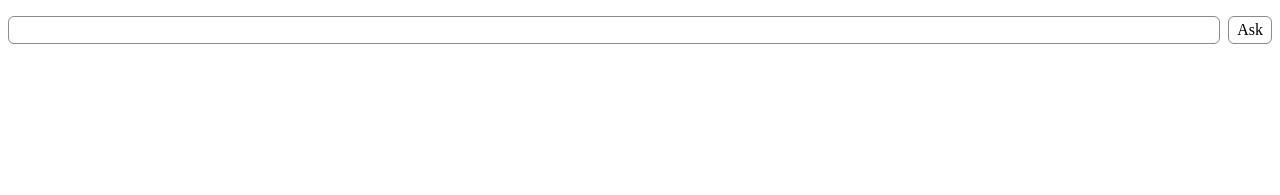
Scenario: AssistantBox asking (spec assistant §4, §5) › filters ids to the spec, drops duplicates, keeps the order; no known id means no highlight
Type "q" into the field at (614, 30), box x1=8 y1=16 x2=1220 y2=44
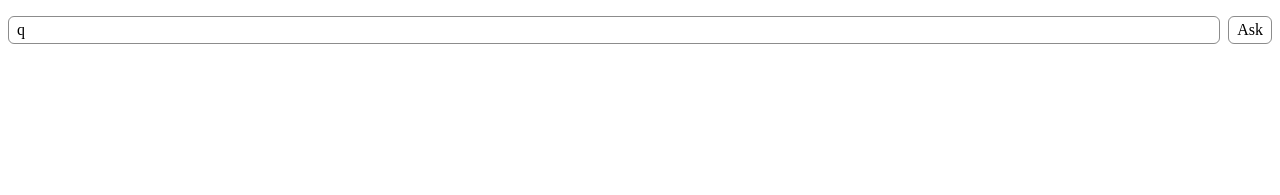
Submit the form, box x1=8 y1=16 x2=1272 y2=44
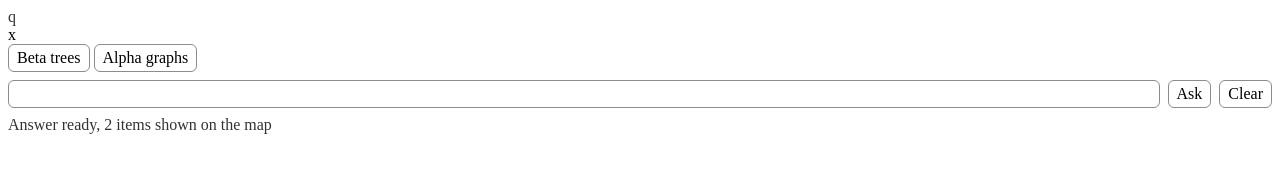
Type "q2" into the field at (584, 94), box x1=8 y1=80 x2=1160 y2=108
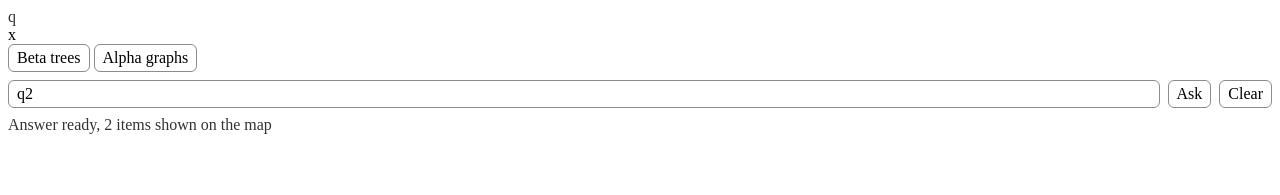
Submit the form, box x1=8 y1=80 x2=1272 y2=108
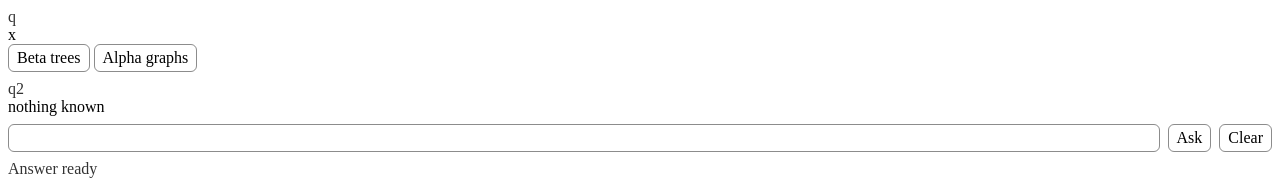
Expected: the message reads "Answer ready", x1=8 y1=160 x2=97 y2=177
